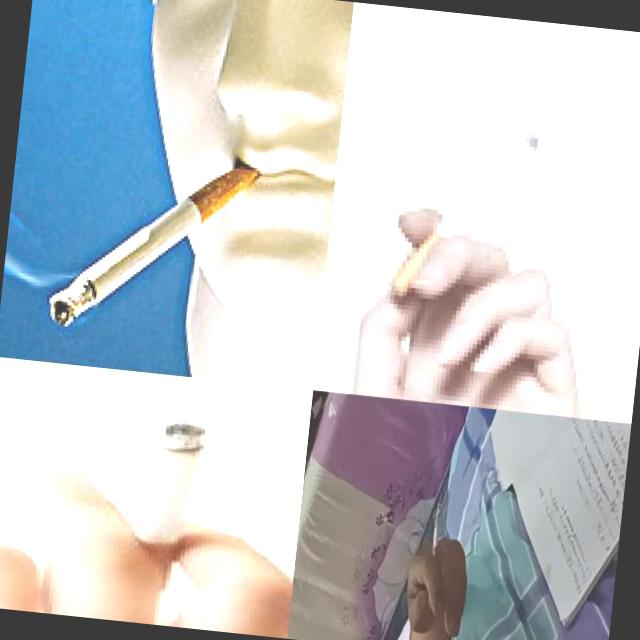smoke: (49, 142, 265, 345), (384, 102, 552, 314), (126, 418, 208, 595), (430, 502, 442, 566)
